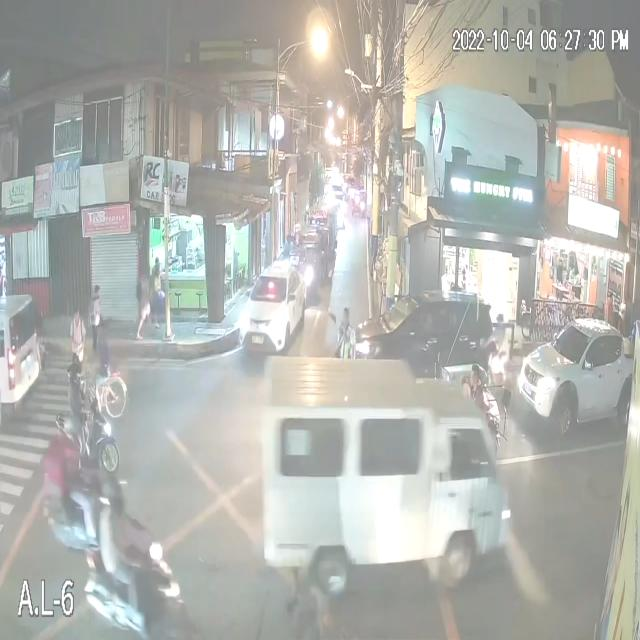Full-Faced: (99, 471, 126, 515), (63, 360, 88, 392)
